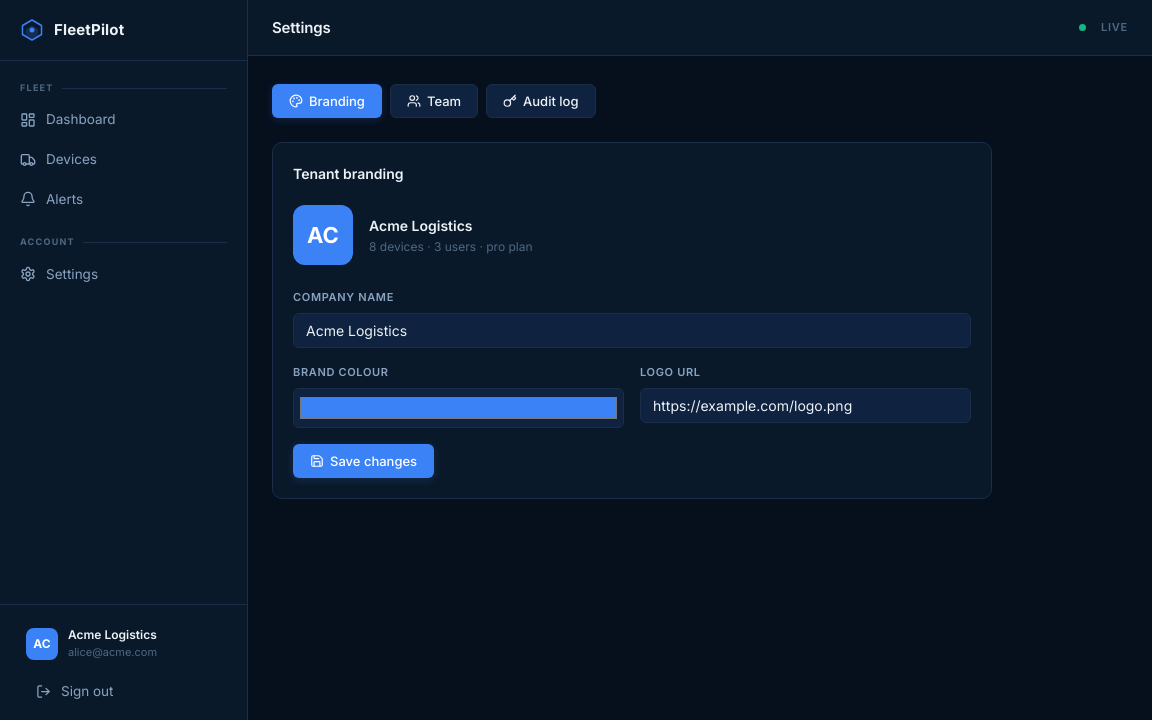
Test: Settings › shows "No audit logs yet" when audit logs are empty
The width and height of the screenshot is (1152, 720).
Click the button "Audit log" at (541, 101), box [486,84,596,118]
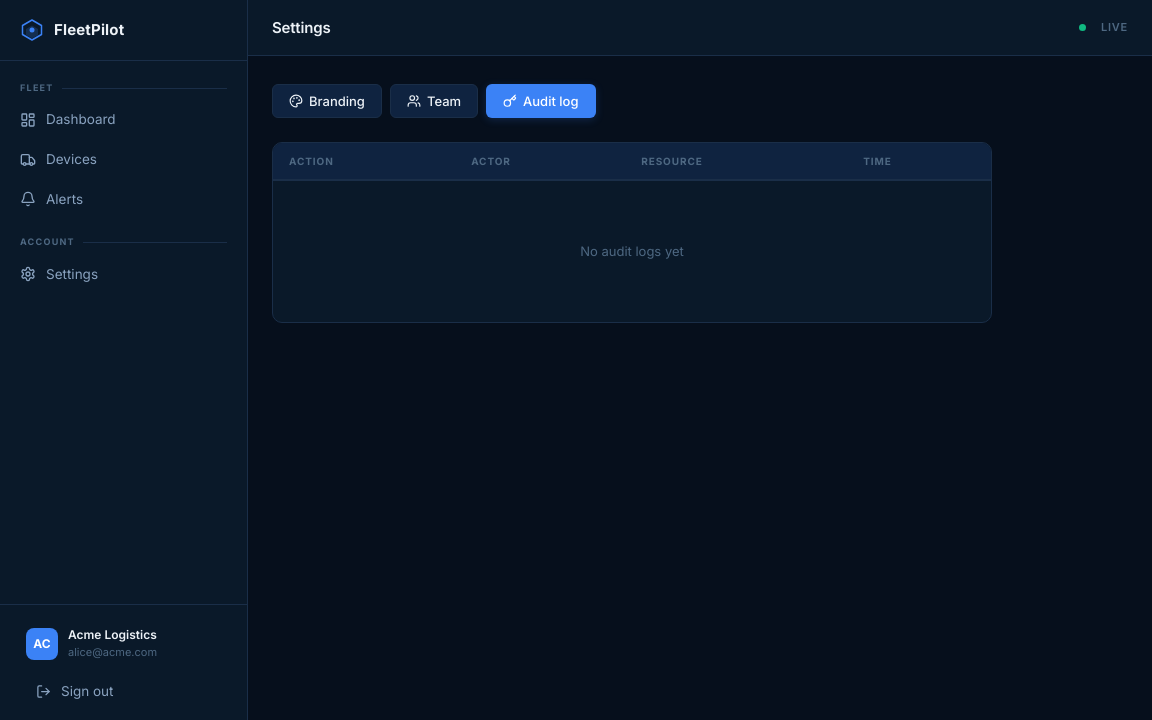
Now the text "No audit logs yet" is shown, box [580,243,684,259]
